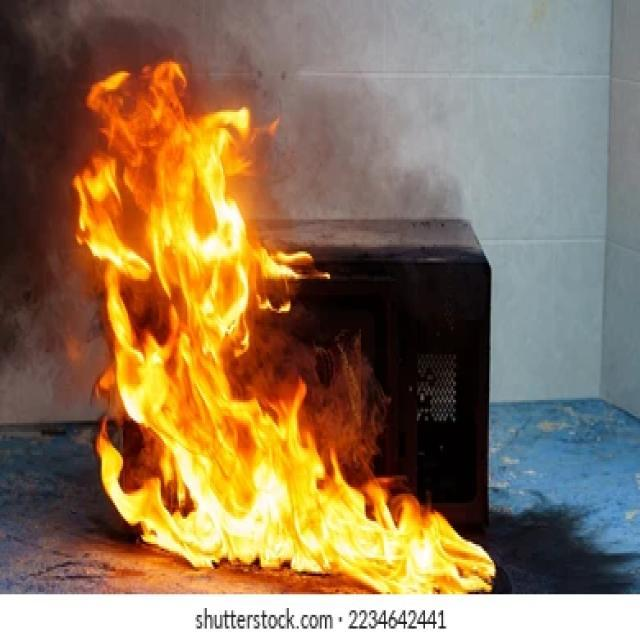fire: (74, 31, 356, 572), (341, 488, 493, 594)
